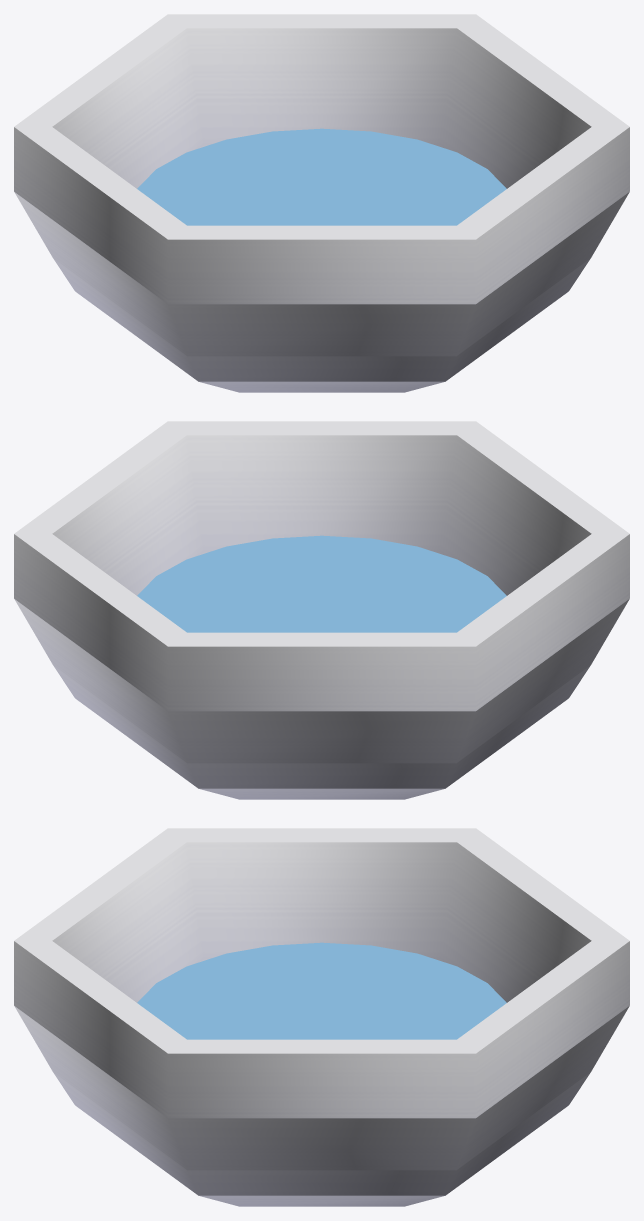
The model's file is bebedero.glb.
The picture shows the model from 3 angles, top to bottom: view 1: azimuth 30°, elevation 25°; view 2: azimuth 150°, elevation 25°; view 3: azimuth 270°, elevation 25°; orthographic projection.
Parts seen in each view (by area): view 1: bowl, water; view 2: bowl, water; view 3: bowl, water.
Part boxes in pixels (box(x1,y1,x2,y2)): bowl: box(14, 14, 629, 392); water: box(137, 128, 506, 225); bowl: box(14, 421, 629, 799); water: box(137, 535, 506, 632); bowl: box(14, 828, 629, 1206); water: box(137, 942, 506, 1039).
Size of the model in its own units: 0.5022 by 0.2138 by 0.5798.
Materials: 2 (1 with a texture image).
